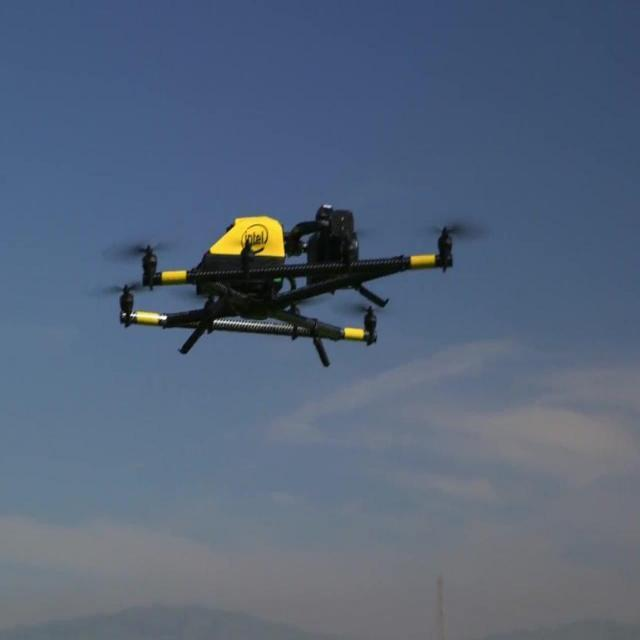UAV: (87, 205, 491, 367)
